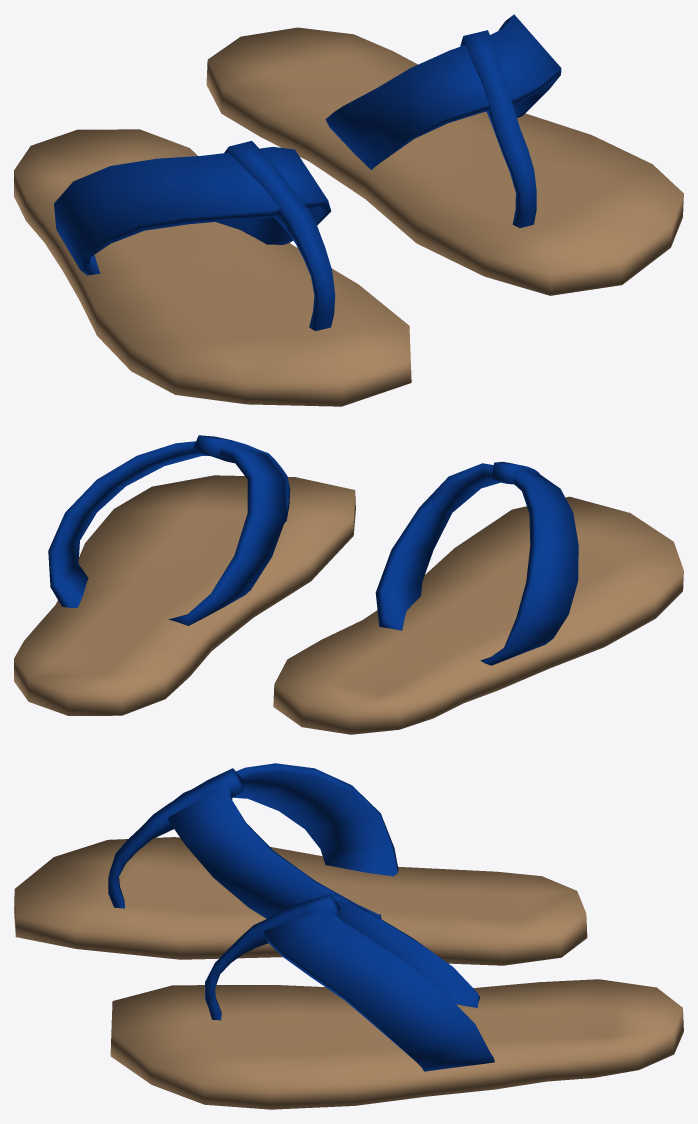
Rendered from Sandals 1.FBX.
3 renders of one model, top to bottom at view 1: azimuth 30°, elevation 25°; view 2: azimuth 150°, elevation 25°; view 3: azimuth 270°, elevation 25°, orthographic. The views are drawn at different scales.
Parts seen in each view (by area): view 1: right sandal, left sandal; view 2: right sandal, left sandal; view 3: left sandal, right sandal.
Part boxes in pixels (x1,y1,x2,y2): right sandal: (14, 129, 411, 406); left sandal: (206, 14, 683, 295); right sandal: (273, 461, 683, 734); left sandal: (14, 435, 355, 715); left sandal: (110, 893, 683, 1109); right sandal: (14, 763, 587, 965).
Bounding box in the file's own units: 258 × 293 × 74.39.
Materials: 1 (1 with a texture image).
